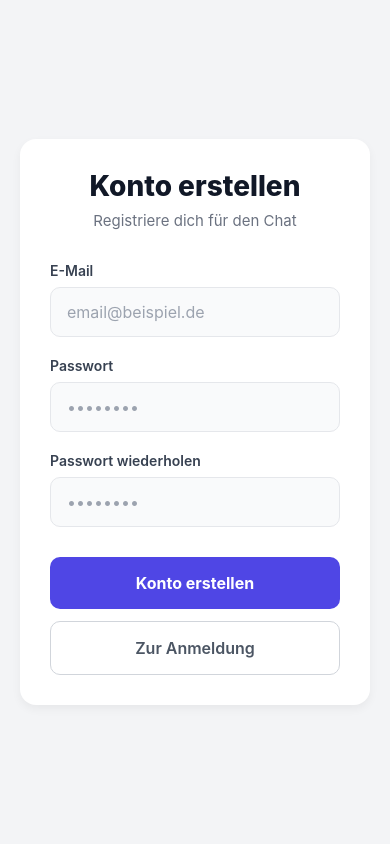
RegisterScreen › führt erfolgreiche Registrierung durch und zeigt Erfolgsmeldung
Type "neu@mail.de" into the field with placeholder "email@beispiel.de" at [195, 312], box left=50, top=287, right=340, bottom=337
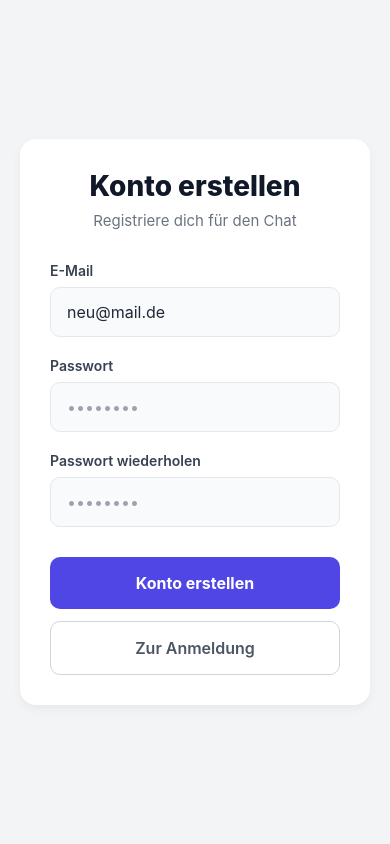
Type "passwort123" into the 1st password field with placeholder "••••••••" at [195, 407], box left=50, top=382, right=340, bottom=432
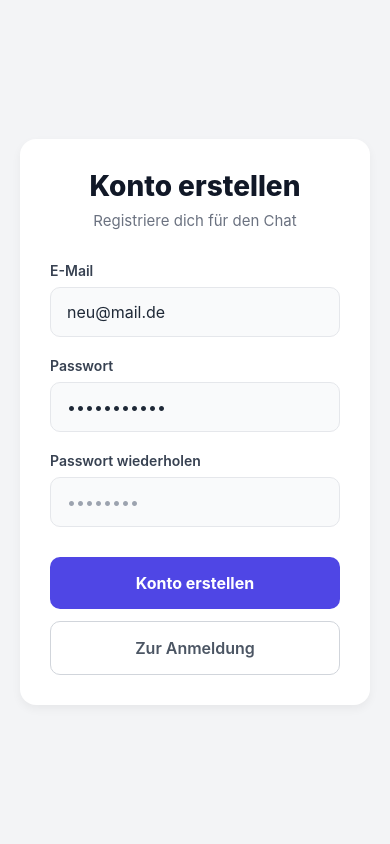
Type "passwort123" into the password field with placeholder "••••••••" at [195, 502], box left=50, top=477, right=340, bottom=527
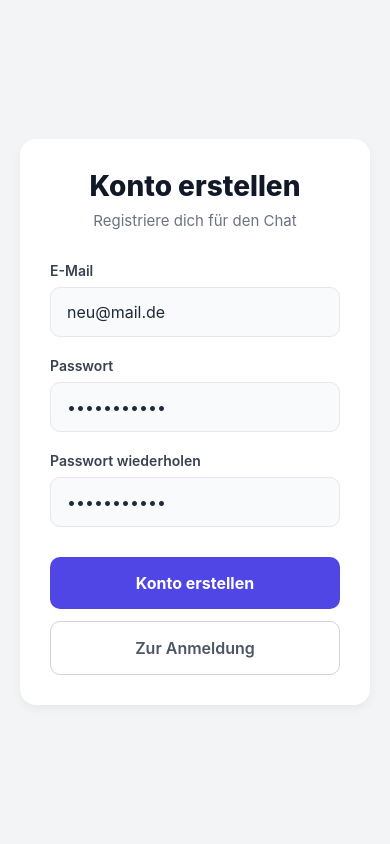
Click the 2nd text "Konto erstellen" at [195, 583], box left=136, top=573, right=254, bottom=593
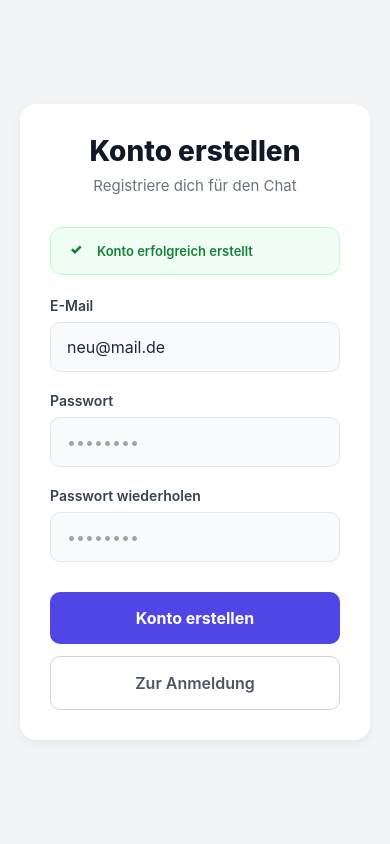
Check: the text "Konto erfolgreich erstellt" is shown, box left=97, top=242, right=253, bottom=258
